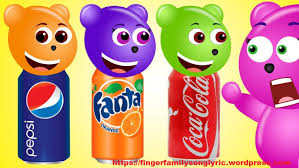fanta: (93, 70, 143, 161)
